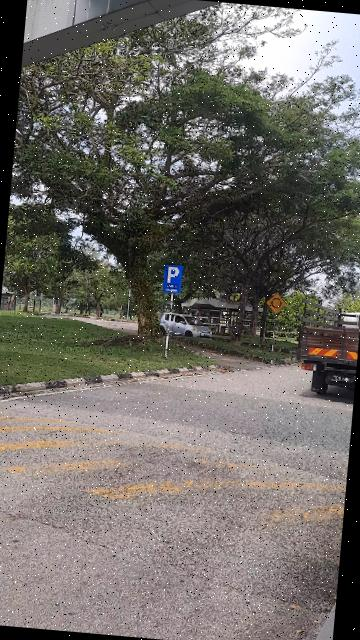License_Plate: (333, 374, 354, 383)
lorry: (297, 303, 360, 403)
